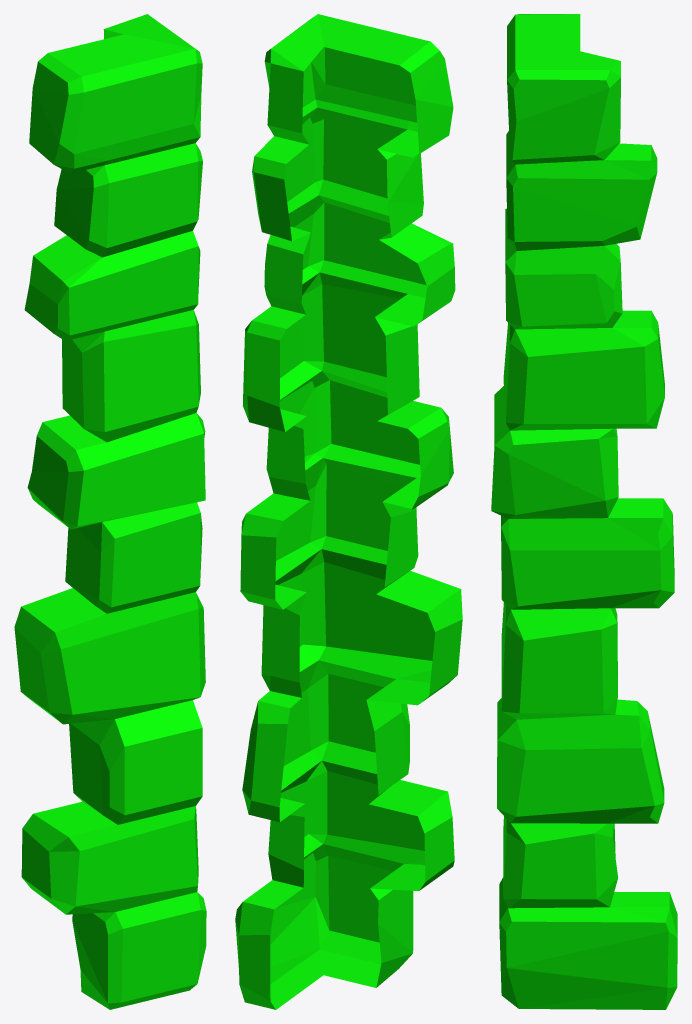
File: SM_Wall_Decor_Corner_Stone_Out_3m.fbx
The picture shows the model from 3 angles, left to right: view 1: azimuth 30°, elevation 25°; view 2: azimuth 150°, elevation 25°; view 3: azimuth 270°, elevation 25°; orthographic projection.
Parts seen in each view (by area): view 1: wall-decor-corner-stone-out-3m; view 2: wall-decor-corner-stone-out-3m; view 3: wall-decor-corner-stone-out-3m.
Boxes of the visible parts, left/top/right/bottom form: wall-decor-corner-stone-out-3m: left=14, top=14, right=206, bottom=1009; wall-decor-corner-stone-out-3m: left=235, top=14, right=462, bottom=1009; wall-decor-corner-stone-out-3m: left=491, top=14, right=677, bottom=1009.
Bounding box in the file's own units: 0.5483 × 3.03 × 0.5441.
